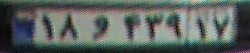character: (83, 11, 116, 41), (57, 11, 82, 44), (117, 11, 143, 41), (143, 10, 165, 42), (164, 9, 183, 43), (209, 13, 232, 41), (39, 11, 57, 42), (194, 13, 209, 42)
